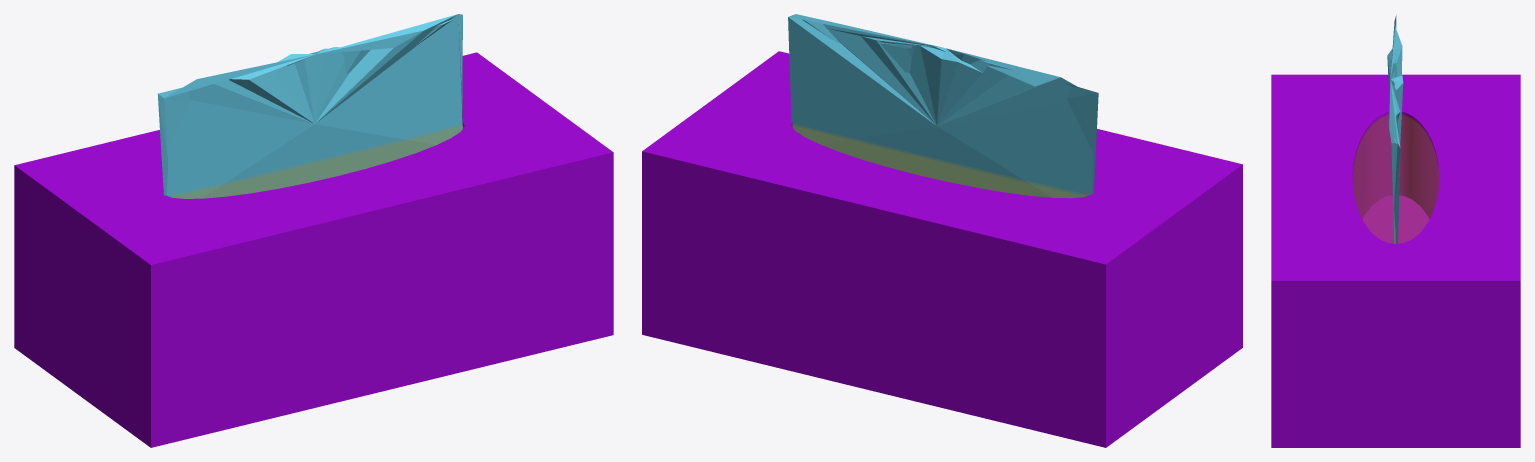
File: TissueBox.fbx
The picture shows the model from 3 angles, left to right: view 1: azimuth 30°, elevation 25°; view 2: azimuth 150°, elevation 25°; view 3: azimuth 270°, elevation 25°; orthographic projection. The views are drawn at different scales.
Parts seen in each view (by area): view 1: TissueBox; view 2: TissueBox; view 3: TissueBox.
Part boxes in pixels (x1,y1,x2,y2): TissueBox: (14,14,613,447); TissueBox: (642,14,1242,447); TissueBox: (1271,15,1520,447).
Size of the model in its own units: 2250 by 1360 by 1150.
